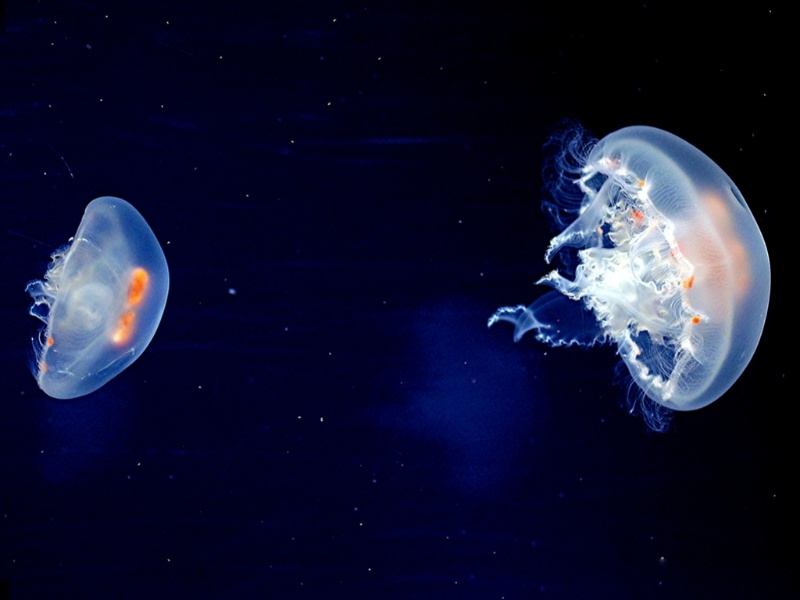Jellyfish: (487, 116, 771, 437), (25, 196, 169, 399)
